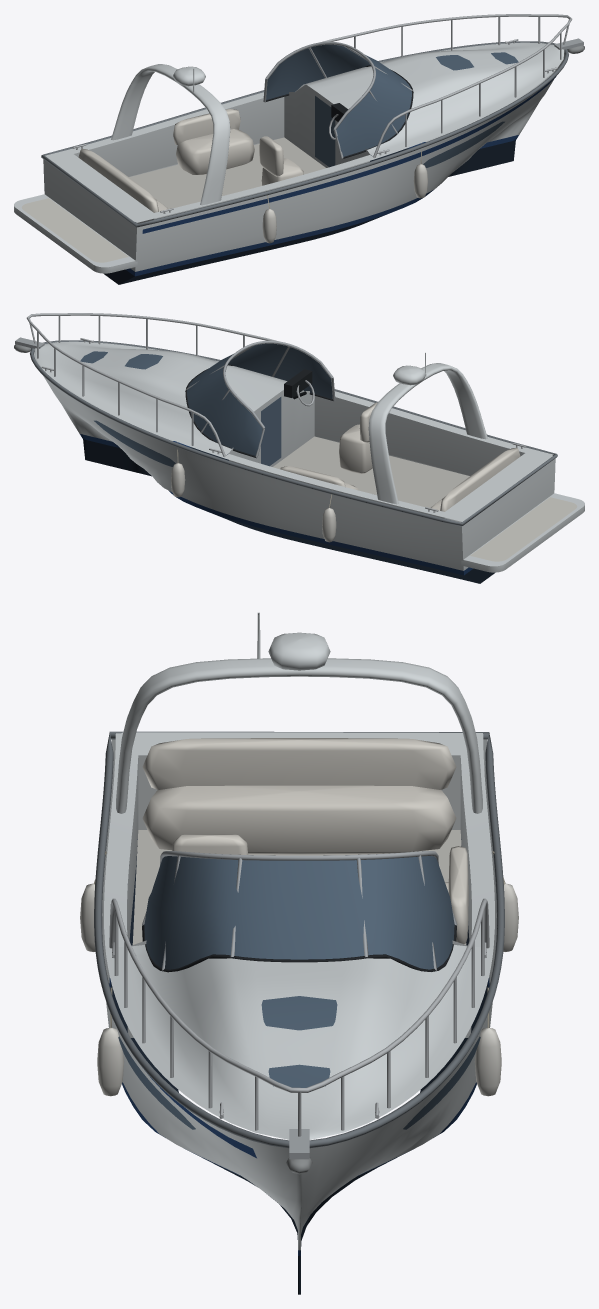
Rendered from cabin-cruiser-open.glb.
The picture shows the model from 3 angles, top to bottom: view 1: azimuth 30°, elevation 25°; view 2: azimuth 150°, elevation 25°; view 3: azimuth 270°, elevation 25°; orthographic projection. The views are drawn at different scales.
Parts seen in each view (by area): view 1: cruiser-lod0; view 2: cruiser-lod0; view 3: cruiser-lod0.
Boxes of the visible parts, x1,y1,x2,y2 form: cruiser-lod0: (14,14,584,284); cruiser-lod0: (14,313,584,583); cruiser-lod0: (80,612,518,1294).
Size of what is drawn, in the model's own units: 8.88 by 2.88 by 3.18.
